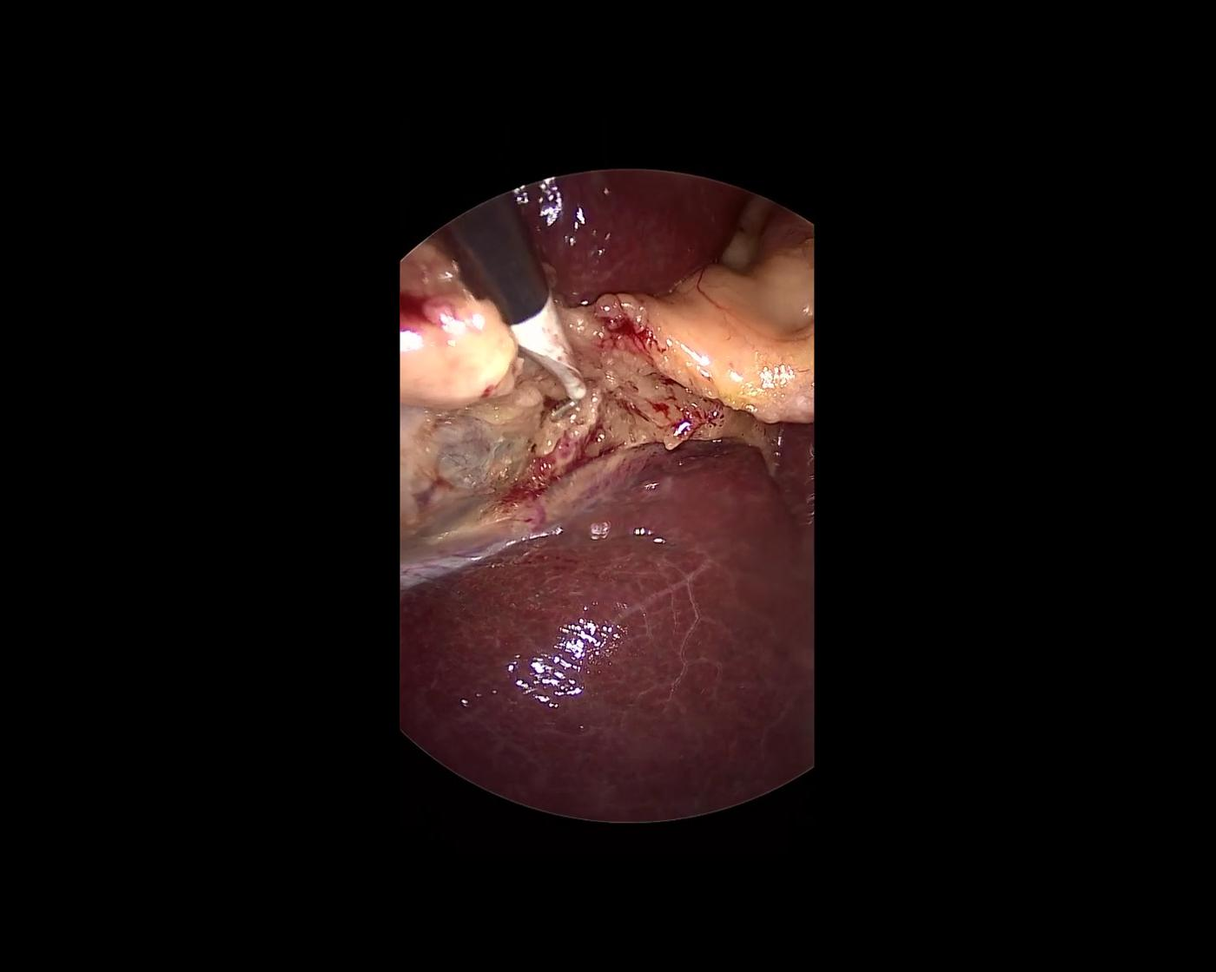Cautery: (429, 190, 594, 437)
Gallbladder: (398, 235, 609, 545)
Liver: (398, 436, 816, 825), (516, 142, 763, 314)
